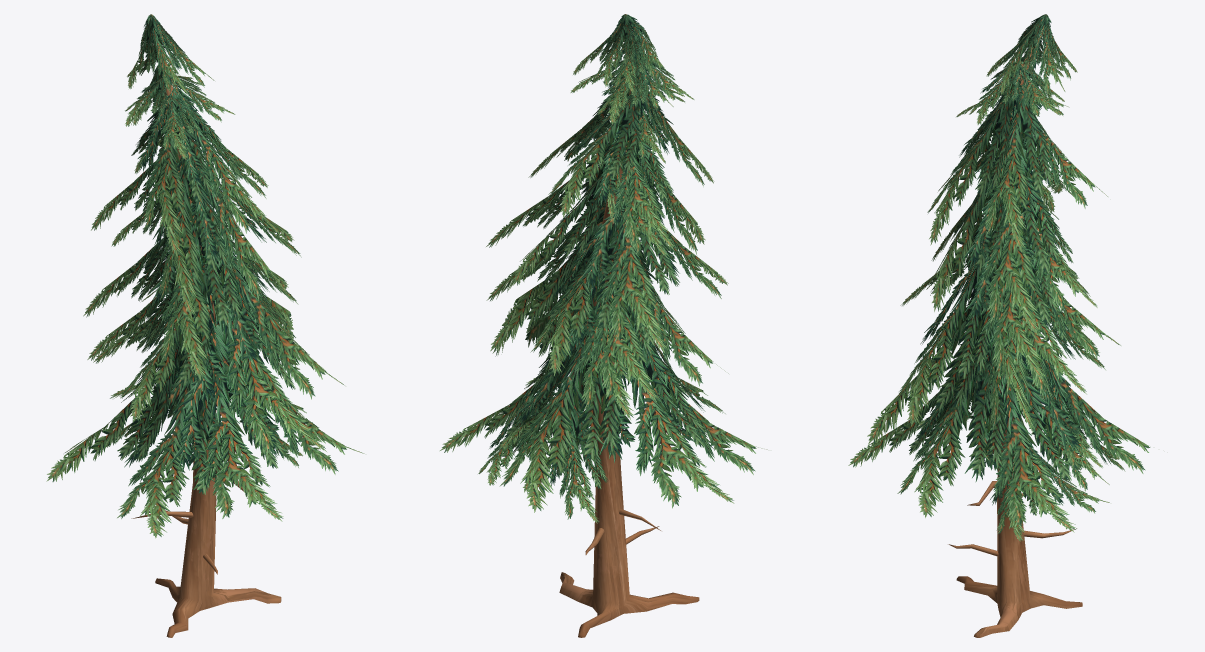
File: PineTree_3.fbx
The picture shows the model from 3 angles, left to right: view 1: azimuth 30°, elevation 25°; view 2: azimuth 150°, elevation 25°; view 3: azimuth 270°, elevation 25°; orthographic projection. The views are drawn at different scales.
Visible parts, largest first — view 1: PineTree_3.001; view 2: PineTree_3.001; view 3: PineTree_3.001.
Boxes of the visible parts, x1,y1,x2,y2 form: PineTree_3.001: [46, 14, 364, 637]; PineTree_3.001: [440, 14, 767, 637]; PineTree_3.001: [848, 14, 1150, 637].
Size of the model in its own units: 9.54 by 16.49 by 9.3.
